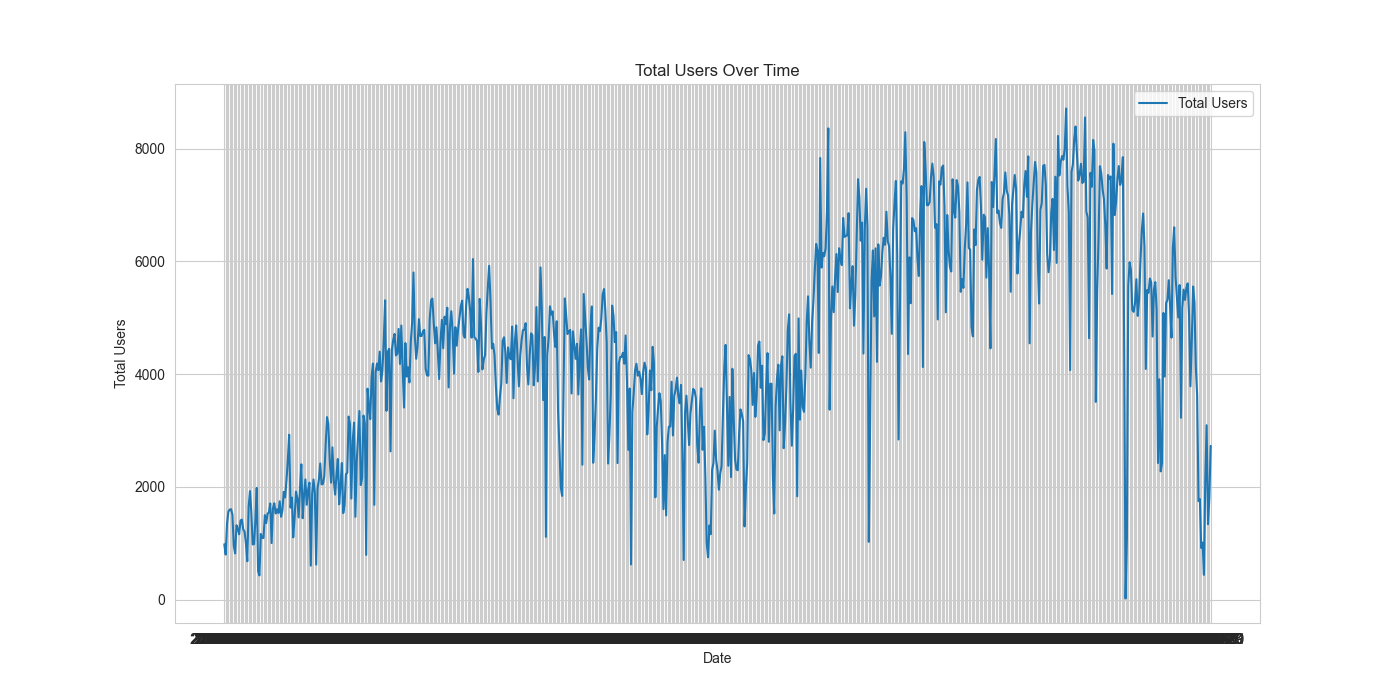

The page's visual inventory and layout, read from the dashboard file:
{"tool":"tableau","page":{"name":"Dashboard 1","canvas":[1000,1000],"units":"permille","ordinal":0},"visuals":[{"type":"worksheet","title":"Sheet 2","mark":"Bar","rows":["count"],"cols":["date","date"],"box":[1.8,480.7,991,499.4]}]}

Visuals, with their boxes on the dashboard's canvas, which has no fixed pixel size, in thousandths of its width and height (x1, y1, x2, y2). These are canvas units, not pixel positions in the 1400x700 screenshot, which may show the page scaled, cropped or inside an application window:
"Sheet 2" worksheet (Bar marks): bbox(2, 481, 993, 980)
